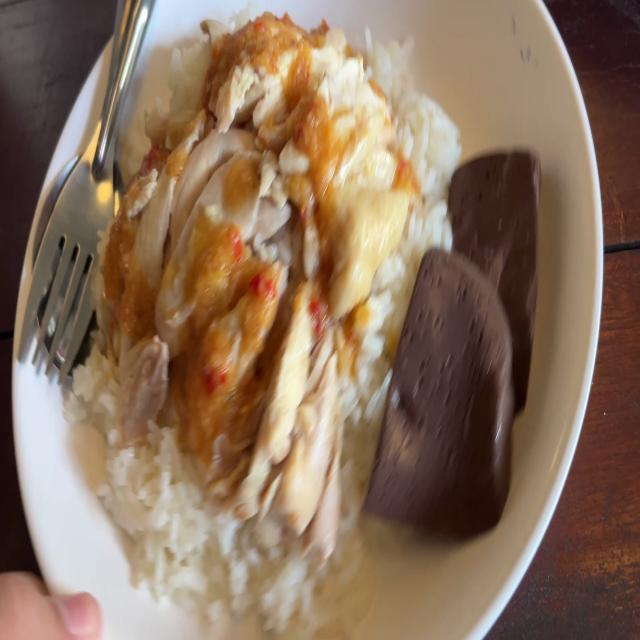chicken_rice: (120, 24, 396, 499)
noodle: (370, 248, 510, 541), (444, 146, 540, 412)
